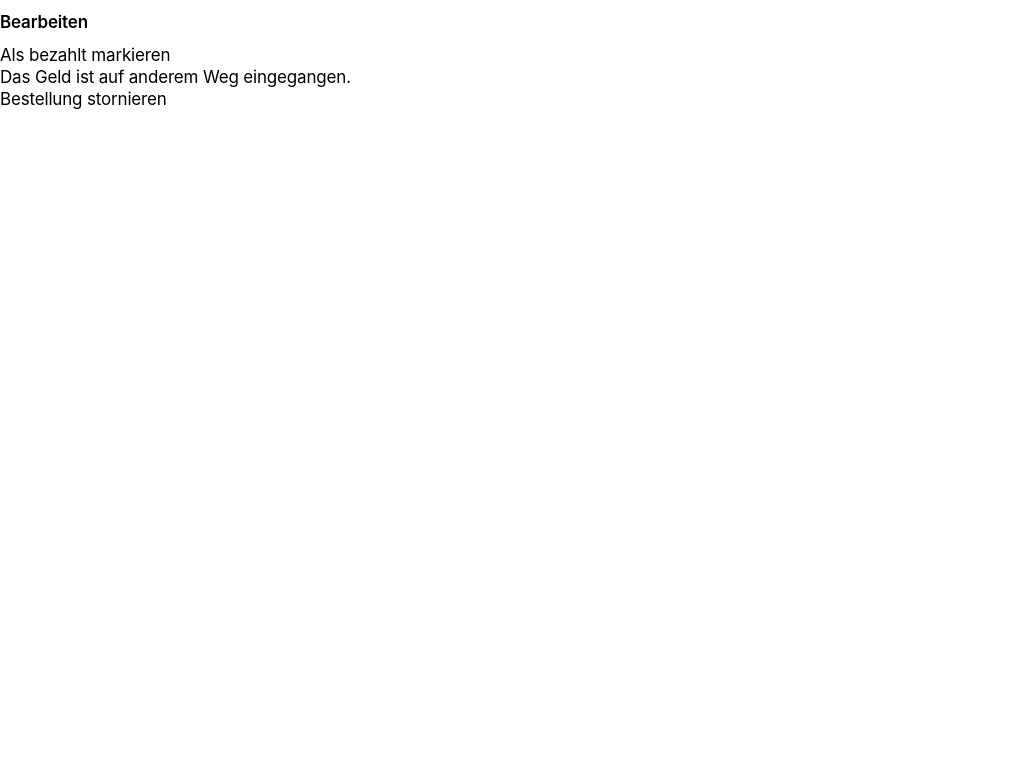
Scenario: capture, mark paid, cancel need a confirmation › a refusal shows the reason of the shop
What coordinates should you click on to do the following:
click the button "Als bezahlt markieren"
I would click on:
 (85, 55)
Its box is x1=0 y1=44 x2=1023 y2=88.
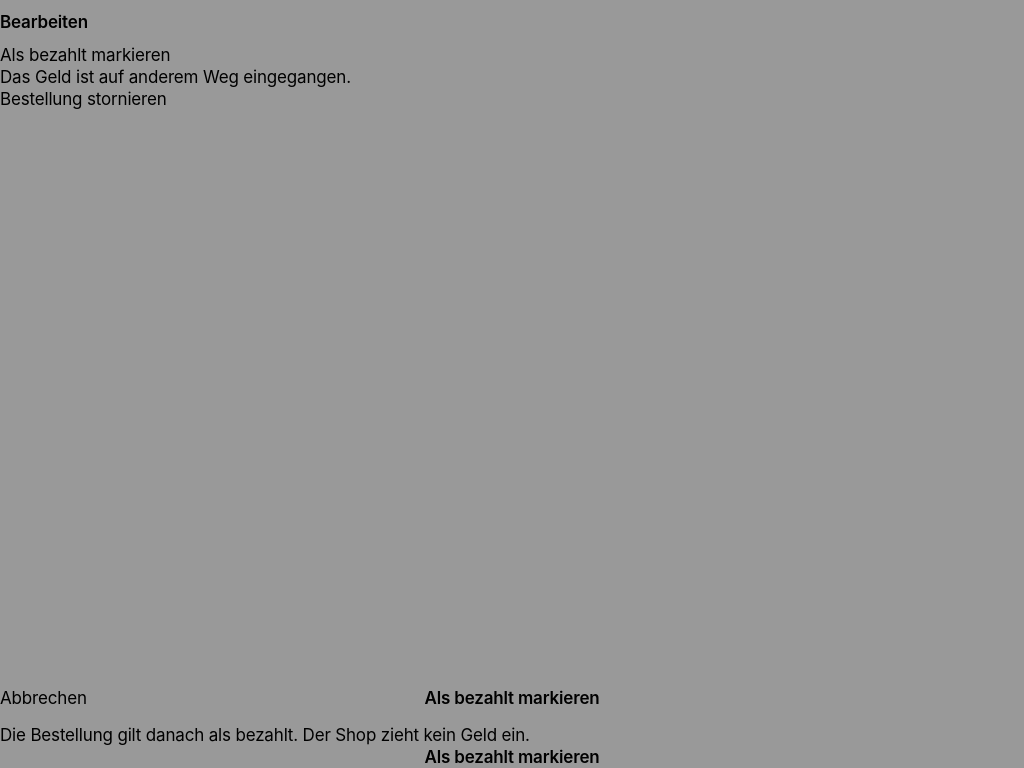
What coordinates should you click on to do the following:
click the button "Als bezahlt markieren"
I would click on:
 (512, 757)
Its box is x1=0 y1=746 x2=1023 y2=767.
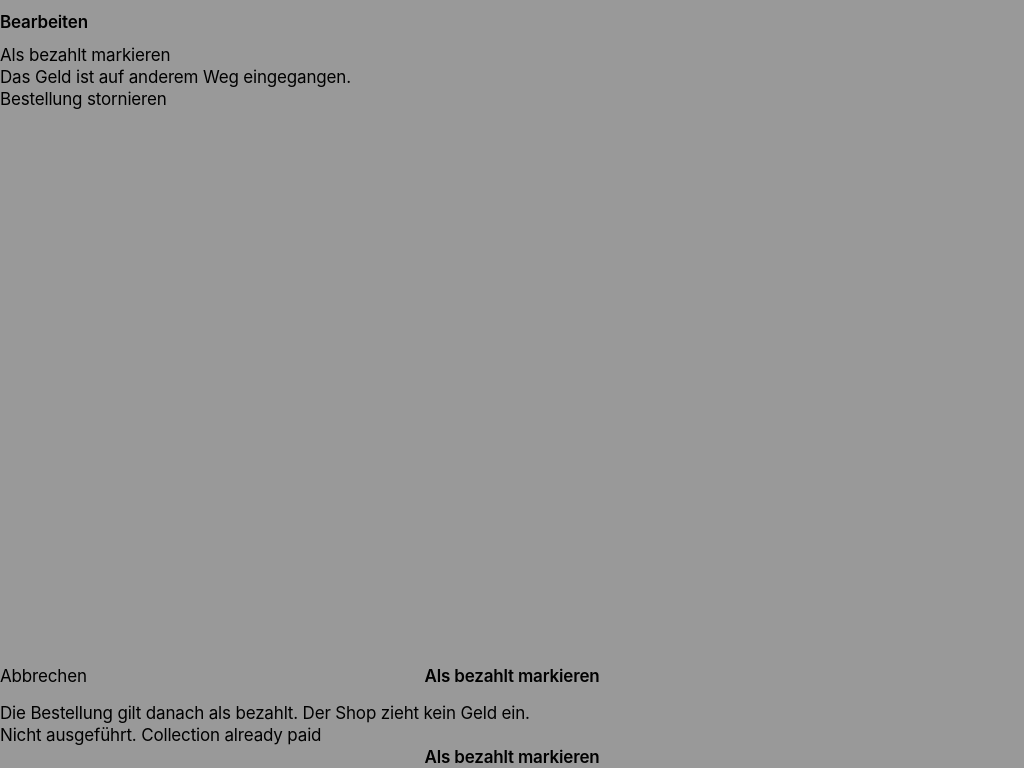
Expected: the text "Nicht ausgeführt. Collection already paid" is shown, x1=0 y1=725 x2=321 y2=745
